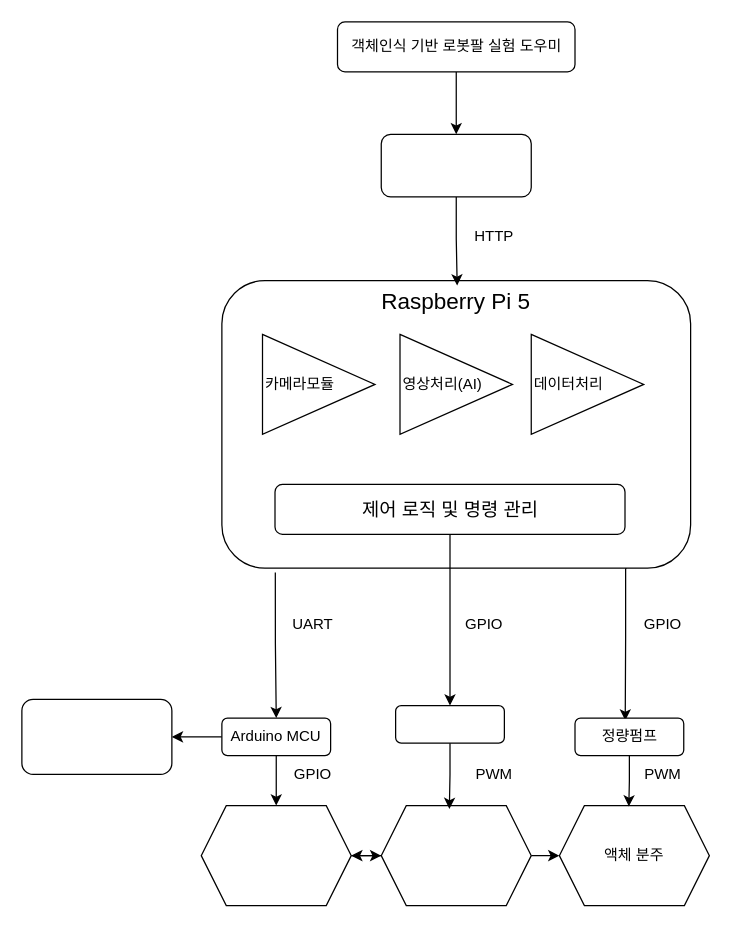
The diagram is 731 pixels wide and 928 high, and some of its shapes have lost their labels. Each missing label, with the box of its shape:
HX711저울: (200, 804, 351, 906)
UVC LED를 이용한 무균 유지: (21, 698, 172, 774)
로봇팔그리퍼: (380, 804, 531, 906)
사용자 인터페이스(웹): (380, 133, 531, 197)
서보모터: (394, 704, 504, 743)
